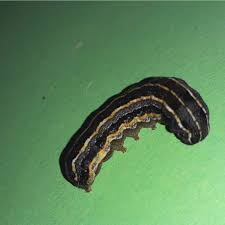Armyworm: (57, 60, 212, 201)
